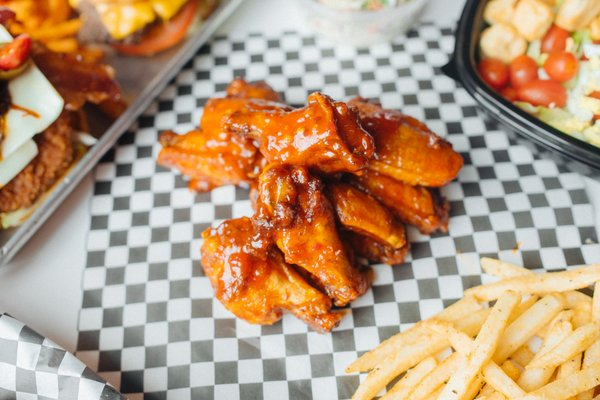sushi: (450, 0, 600, 178)
